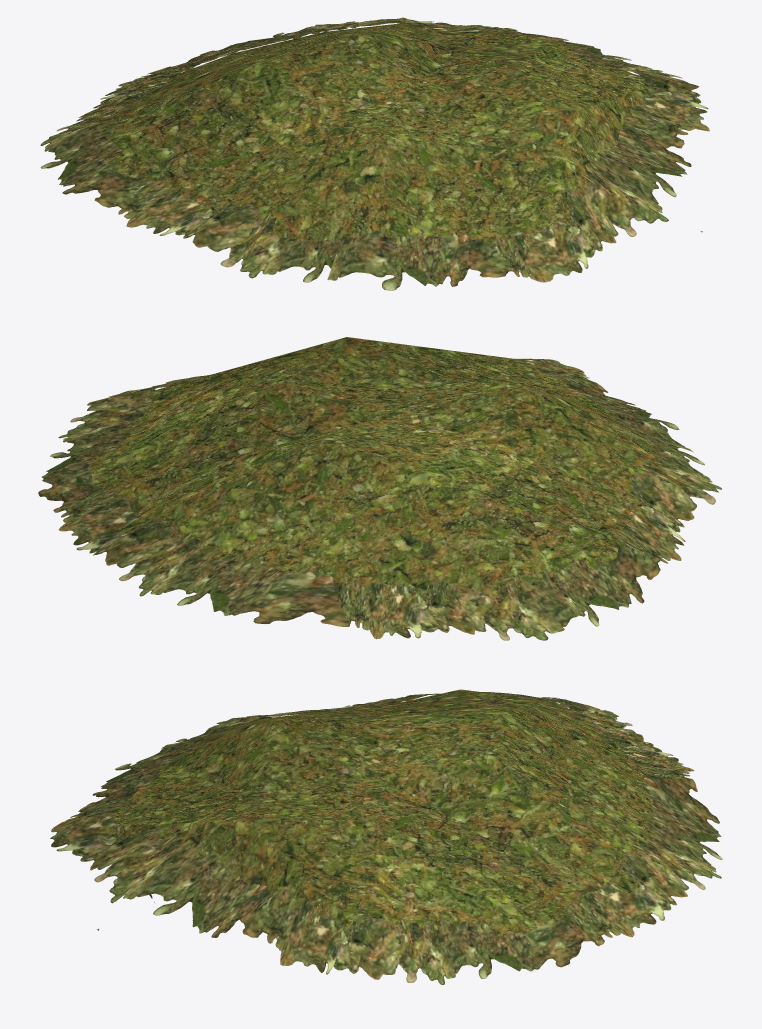
Rendered from pileofweed.fbx.
3 renders of one model, top to bottom at view 1: azimuth 30°, elevation 25°; view 2: azimuth 150°, elevation 25°; view 3: azimuth 270°, elevation 25°, orthographic. The views are drawn at different scales.
Visible parts, largest first — view 1: Weed Brick Open; view 2: Weed Brick Open; view 3: Weed Brick Open.
Boxes of the visible parts, x1,y1,x2,y2 form: Weed Brick Open: (40,17,709,290); Weed Brick Open: (38,337,721,640); Weed Brick Open: (50,689,722,984).
Bounding box in the file's own units: 476 × 67.38 × 456.
